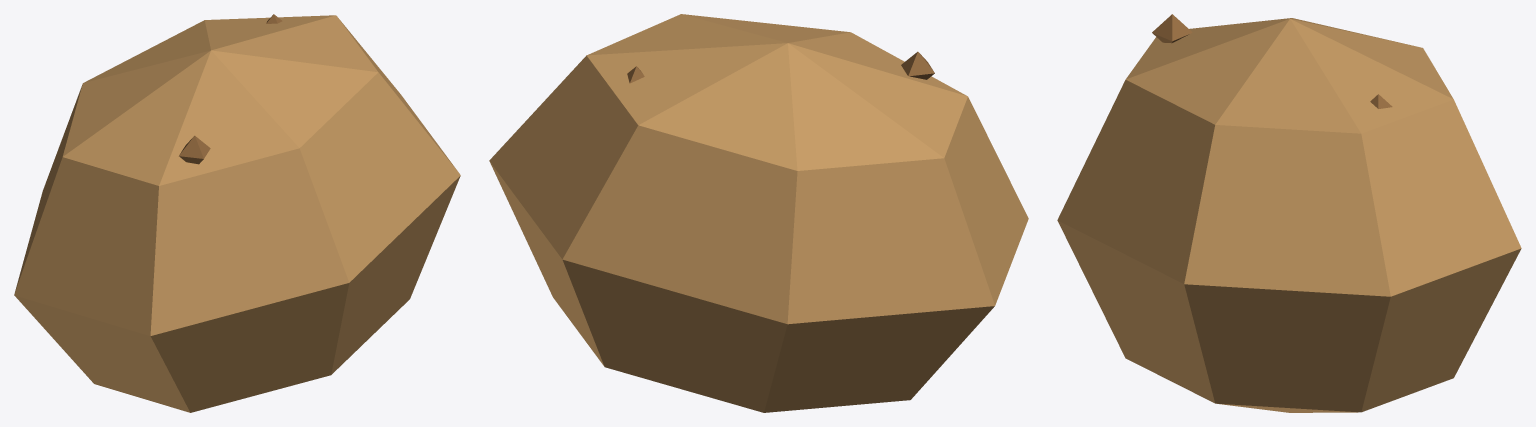
File: Food_Potato.obj
3 views of the same model, side by side, from view 1: azimuth 30°, elevation 25°; view 2: azimuth 150°, elevation 25°; view 3: azimuth 270°, elevation 25° (orthographic). The views are drawn at different scales.
Bounding box in the file's own units: 1.88 × 1.39 × 1.58.
